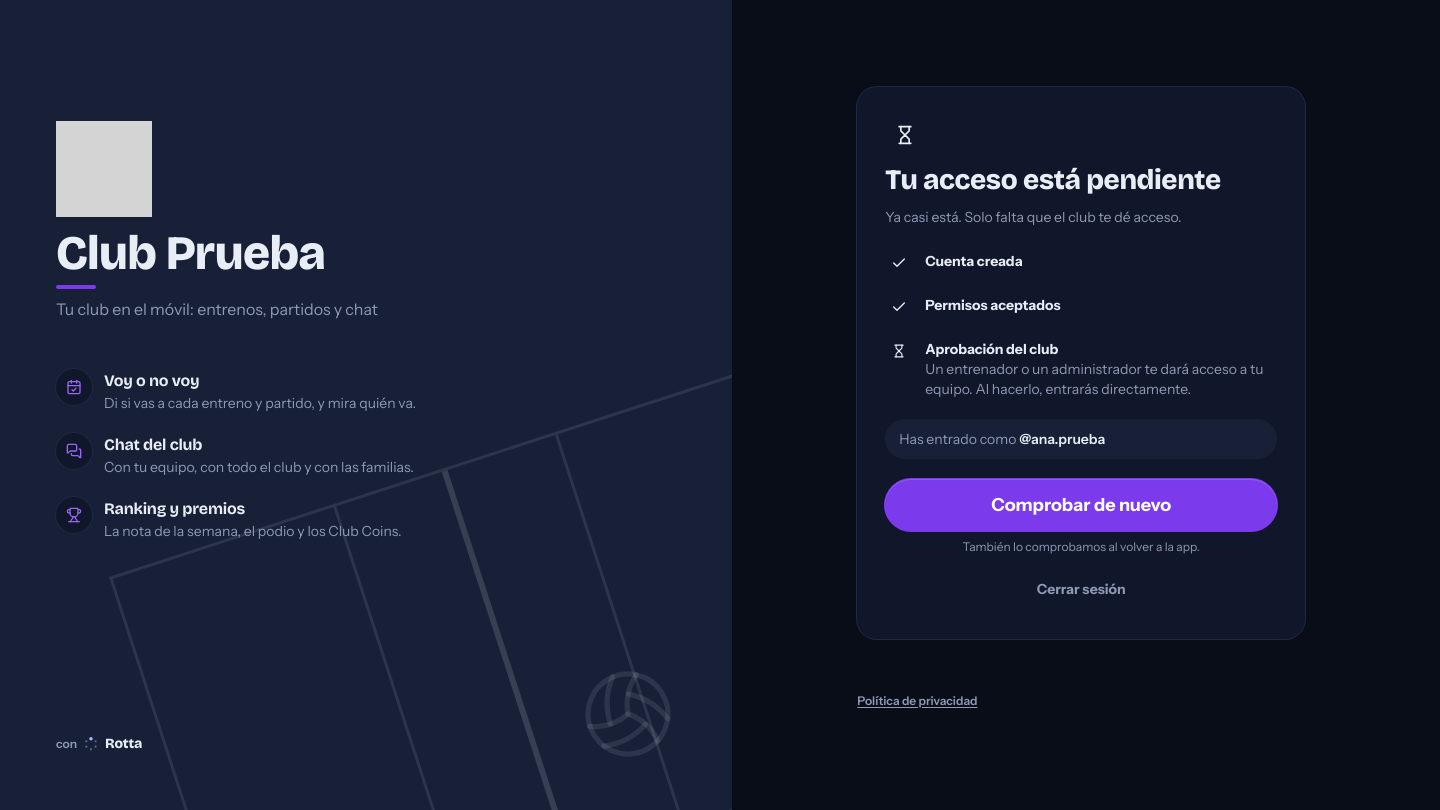
Test: AccessStatusPage › pendiente: comprobar de nuevo y cerrar sesión; enseña con qué cuenta has entrado
Later steps or results of the test are not shown.
Expected: the text "@ana.prueba" is shown, [1019,430,1105,448]
Step 1. Click the button "Comprobar de nuevo" → (1081, 505), box [885,479,1277,531]
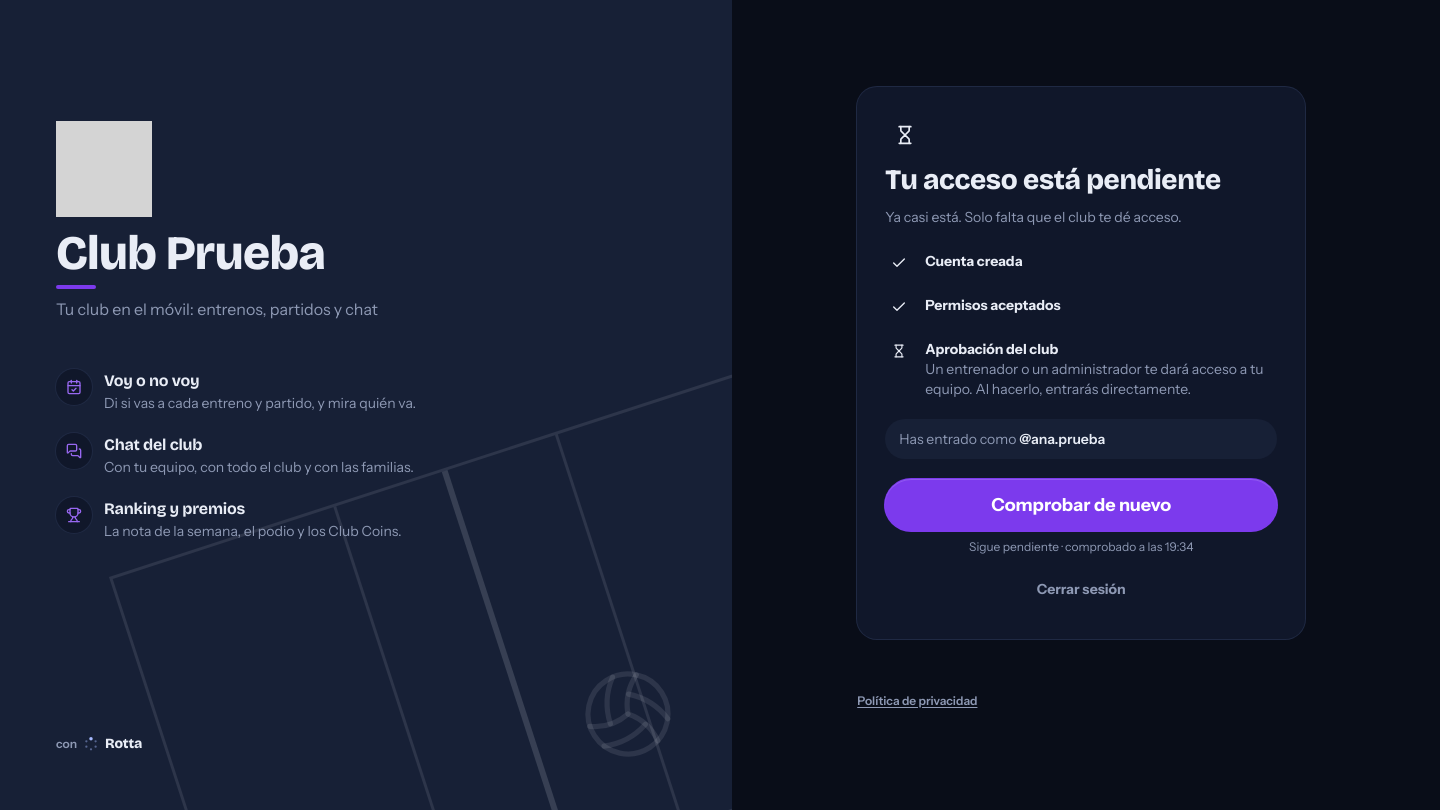
Expected: the text "Sigue pendiente · comprobado a las 19:34" is shown, [969,539,1193,554]
